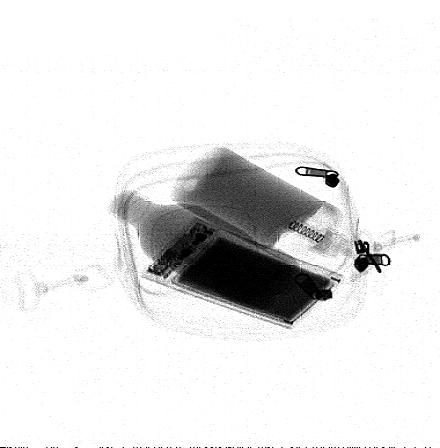Powerbank: (139, 217, 344, 330)
